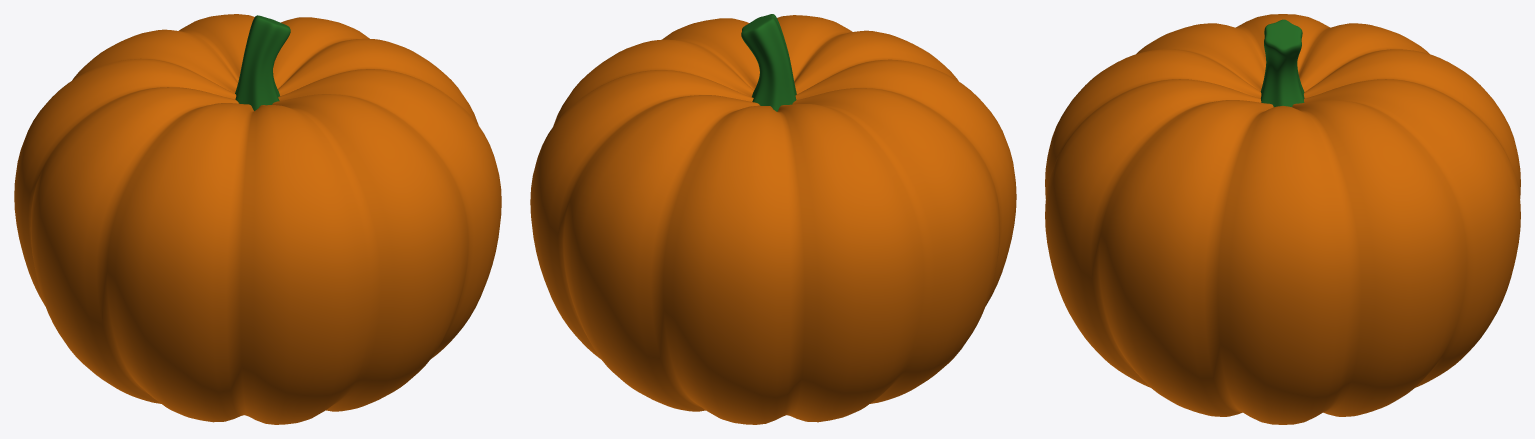
Rendered from pumpkin.fbx.
3 views of the same model, side by side, from view 1: azimuth 30°, elevation 25°; view 2: azimuth 150°, elevation 25°; view 3: azimuth 270°, elevation 25° (orthographic).
Visible parts, largest first — view 1: Circle.002, Cylinder.001; view 2: Circle.002, Cylinder.001; view 3: Circle.002, Cylinder.001.
Boxes of the visible parts, box(x1,y1,x2,y2) form: Circle.002: box(14, 14, 501, 424); Cylinder.001: box(235, 15, 290, 110); Circle.002: box(530, 15, 1016, 424); Cylinder.001: box(741, 14, 796, 111); Circle.002: box(1045, 14, 1520, 424); Cylinder.001: box(1260, 19, 1304, 106).
Size of the model in its own units: 187 by 152 by 183.
